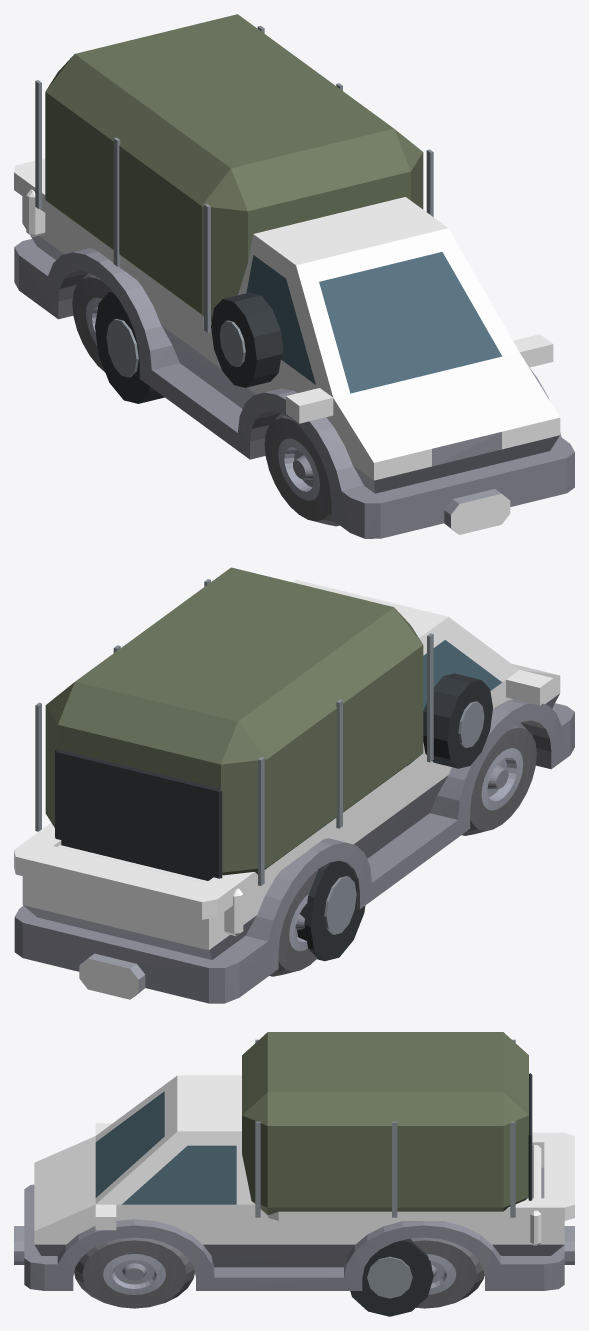
The model's file is troop-truck.glb.
3 views of the same model, one above another, from view 1: azimuth 30°, elevation 25°; view 2: azimuth 150°, elevation 25°; view 3: azimuth 270°, elevation 25° (orthographic). The views are drawn at different scales.
Parts seen in each view (by area): view 1: trim, body, head; view 2: trim, body, tail; view 3: trim, body, head.
Part boxes in pixels (left/top/right/bottom): trim: left=14, top=14, right=574, bottom=538; body: left=14, top=158, right=559, bottom=534; head: left=360, top=417, right=560, bottom=480; trim: left=14, top=567, right=574, bottom=1003; body: left=14, top=579, right=558, bottom=999; tail: left=22, top=876, right=222, bottom=932; trim: left=14, top=1032, right=574, bottom=1316; body: left=34, top=1075, right=574, bottom=1245; head: left=34, top=1222, right=54, bottom=1244.
Bounding box in the file's own units: 2.43 × 2.61 × 6.16.
